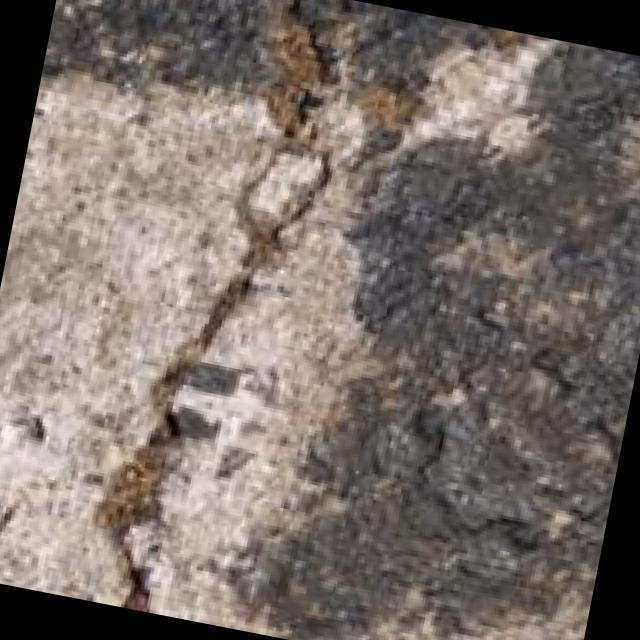crack: (52, 92, 378, 636)
